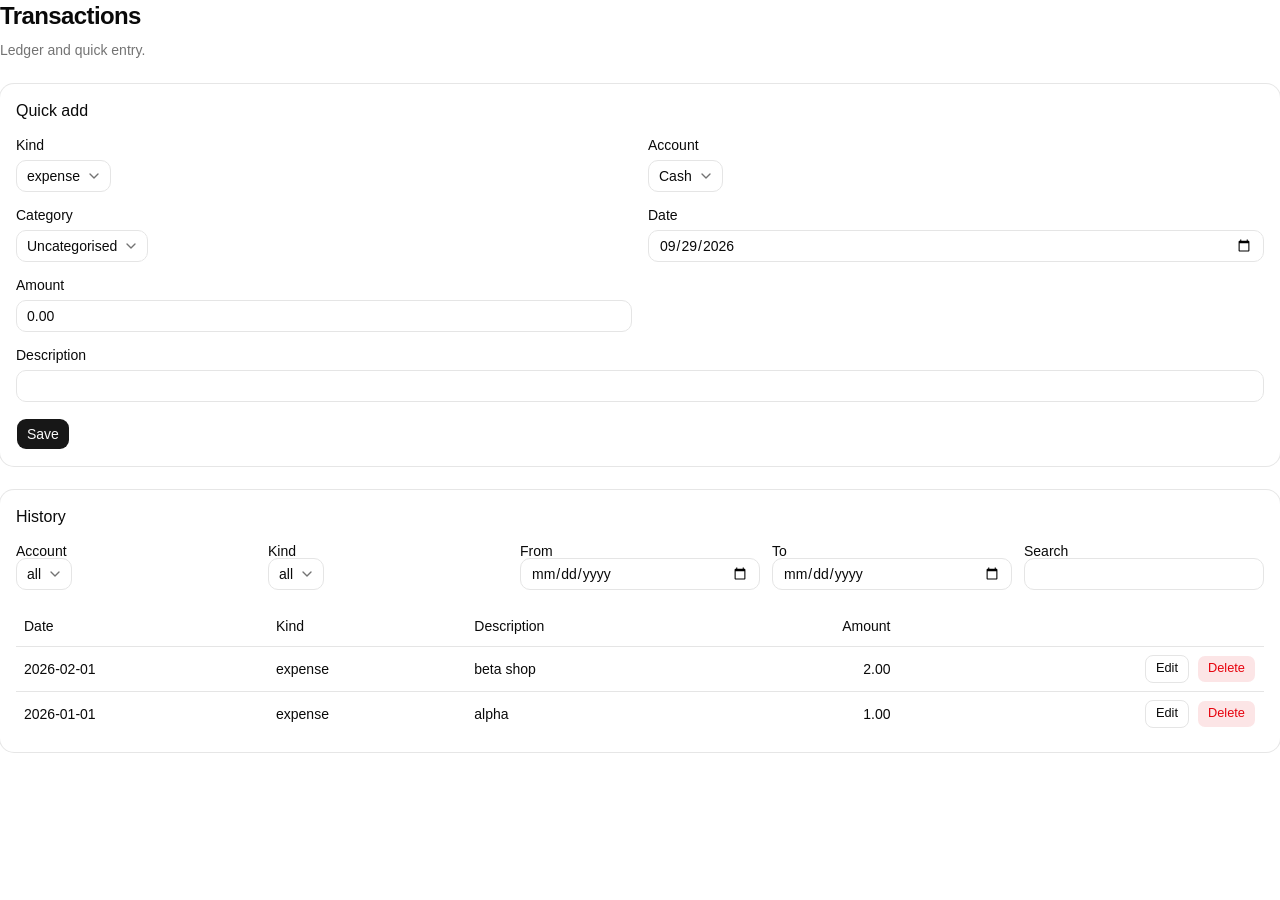
Scenario: TransactionsPage › asks for confirmation before delete
Expected: the text "beta shop" is shown, top-left (466, 646), bottom-right (714, 691)
Click the button "Delete" in the row of "2026-02-01" at [1226, 668], box top-left (1197, 654), bottom-right (1256, 682)
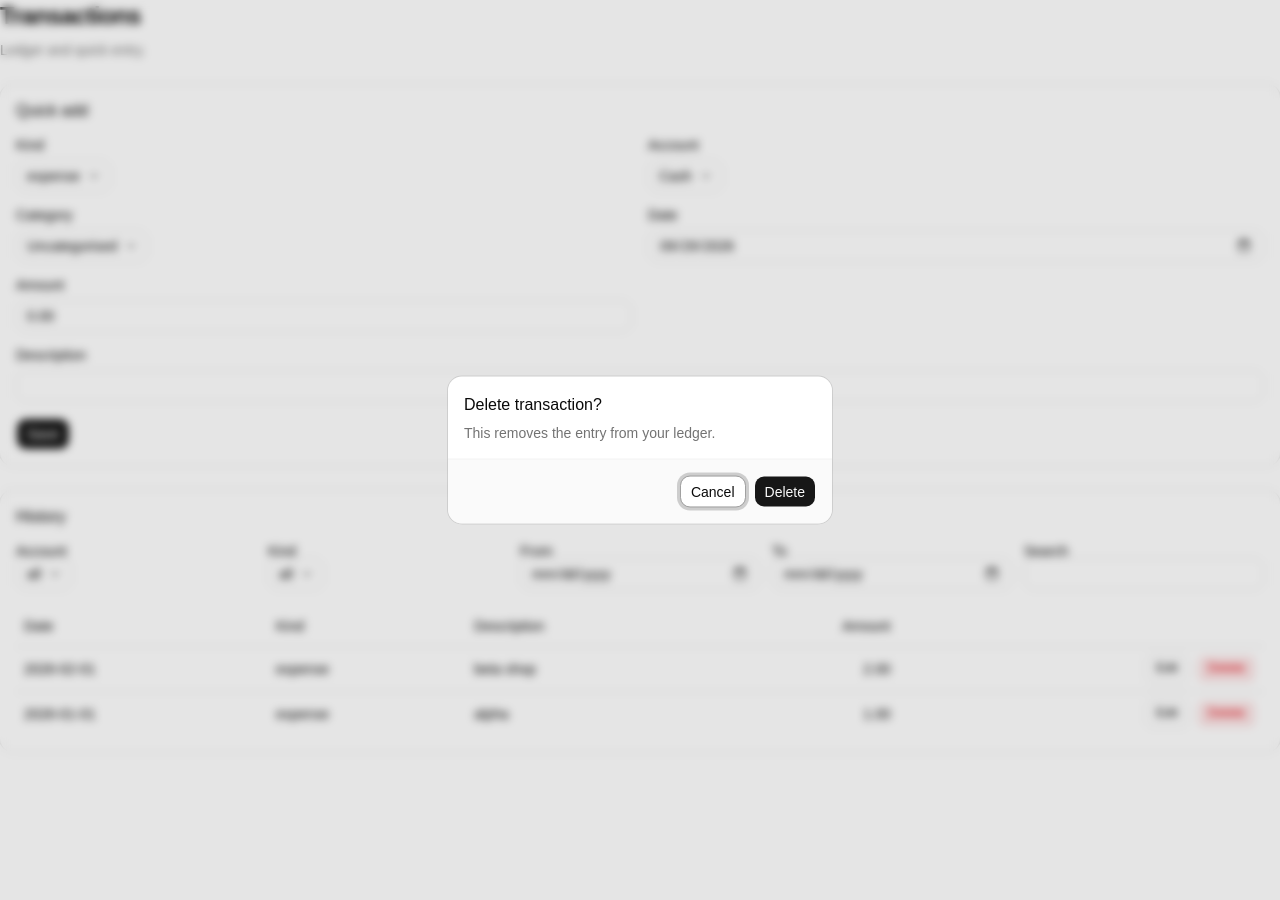
Expected: the heading "Delete transaction?" is shown, top-left (464, 392), bottom-right (602, 416)
